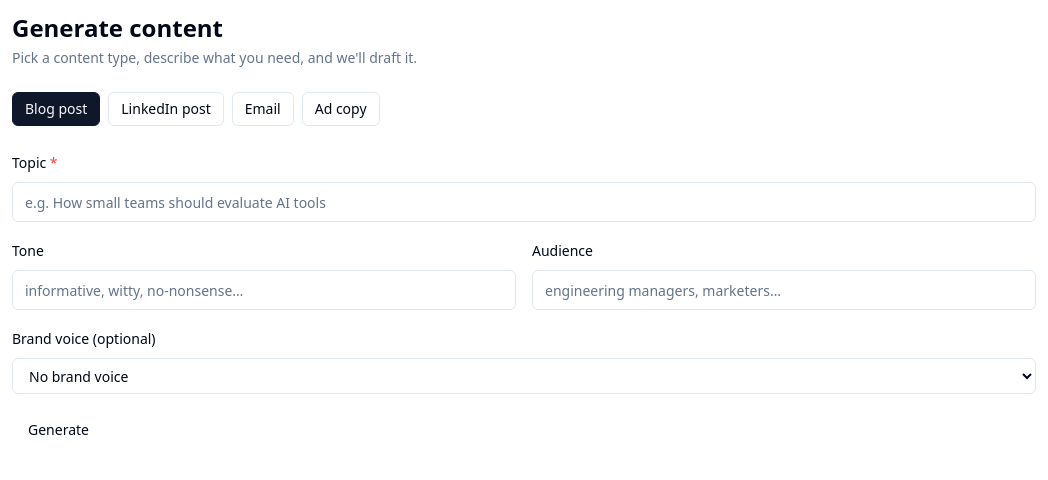
Test: GenerateForm › blocks submit when topic is below the min length
The width and height of the screenshot is (1048, 480).
Type "ab" into the field with test id "generate-topic". click: (524, 202)
box: 12,182 -> 1036,222
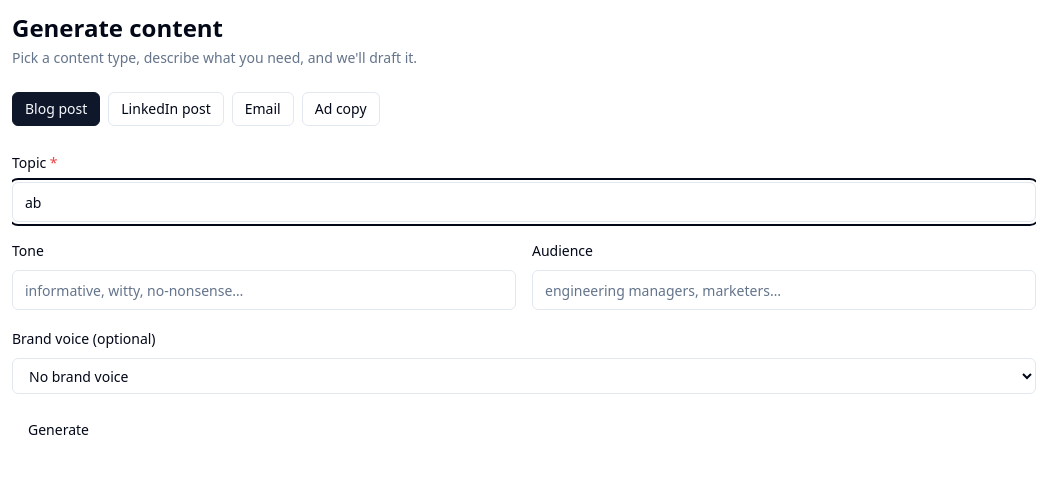
Click the button with test id "generate-submit". click: (58, 430)
box: 12,410 -> 105,450
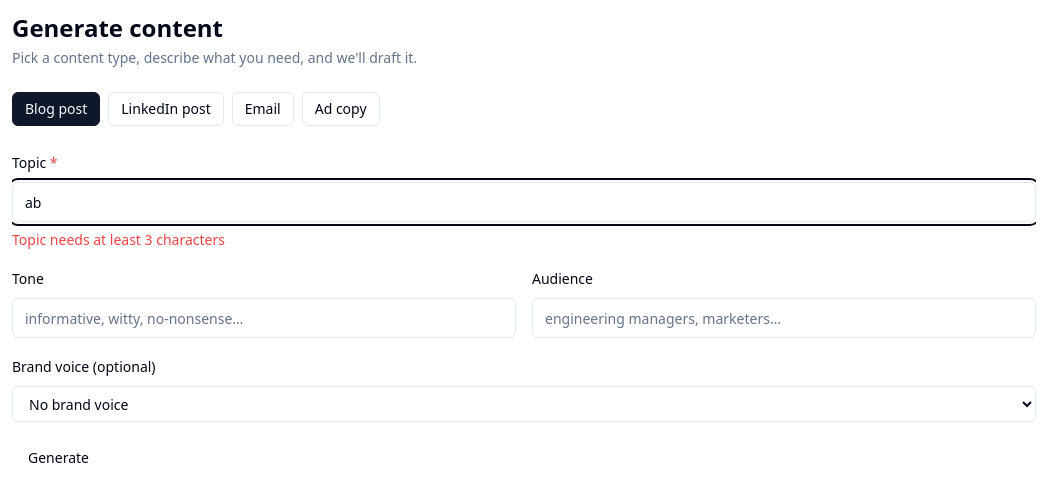
Expected: the text "Topic needs at least 3 characters" is shown, 12,230 -> 225,249
